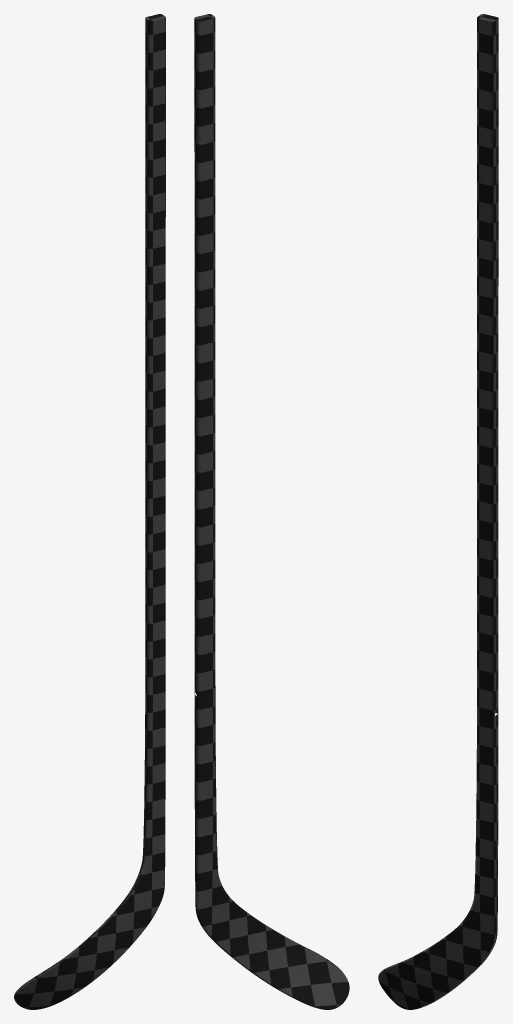
3 renders of one model, left to right at view 1: azimuth 30°, elevation 25°; view 2: azimuth 210°, elevation 25°; view 3: azimuth 330°, elevation 25°, orthographic. The views are drawn at different scales.
Visible parts, largest first — view 1: geometry_0; view 2: geometry_0; view 3: geometry_0.
Part boxes in pixels (bbox=[...]): geometry_0: bbox=[14, 14, 165, 1009]; geometry_0: bbox=[194, 14, 349, 1009]; geometry_0: bbox=[378, 14, 498, 1009].
Size of the model in its own units: 230 by 1650 by 76.6.
1 material, 1 textured.
